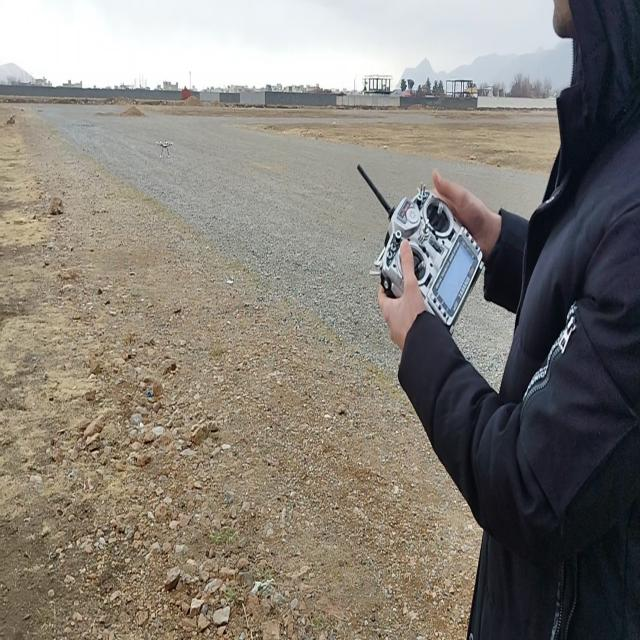drone: (156, 137, 174, 158)
